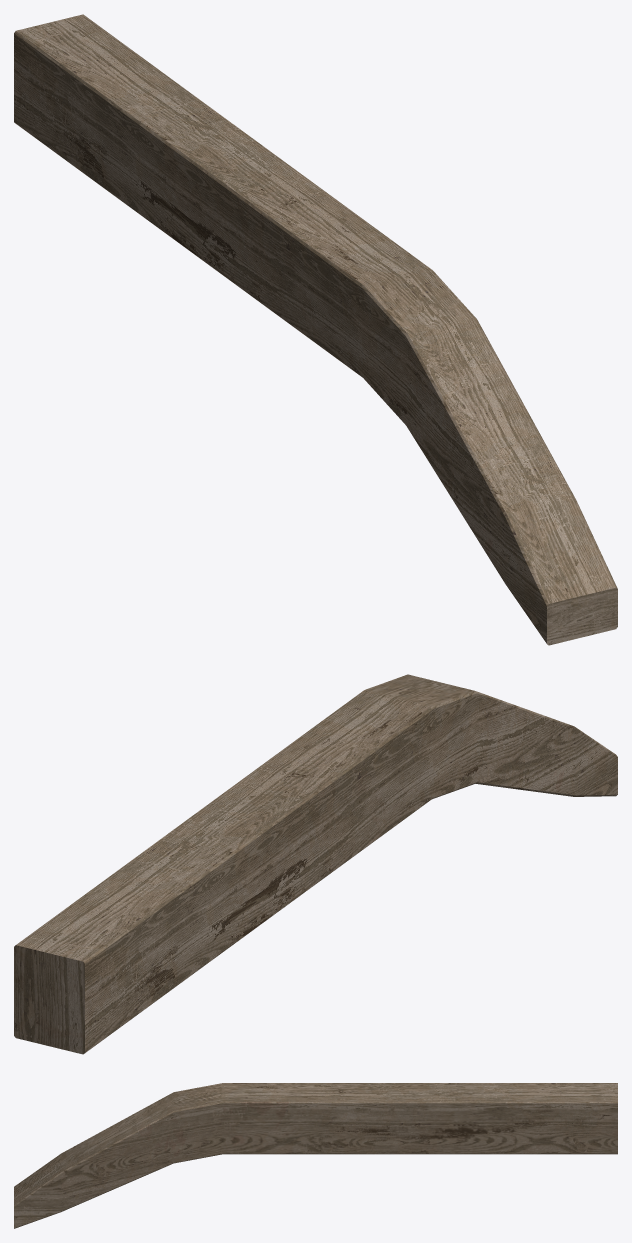
The model's file is SM_JWD_Chunglyang.fbx.
3 views of the same model, one above another, from view 1: azimuth 30°, elevation 25°; view 2: azimuth 150°, elevation 25°; view 3: azimuth 270°, elevation 25° (orthographic). The views are drawn at different scales.
Parts seen in each view (by area): view 1: SM_JWD_Chunglyang; view 2: SM_JWD_Chunglyang; view 3: SM_JWD_Chunglyang.
Part boxes in pixels (x1=…): SM_JWD_Chunglyang: x1=14, y1=14, x2=617, y2=645; SM_JWD_Chunglyang: x1=14, y1=674, x2=617, y2=1054; SM_JWD_Chunglyang: x1=14, y1=1083, x2=617, y2=1228.
Size of the model in its own units: 20 by 260 by 60.46.
Materials: 1 (1 with a texture image).
